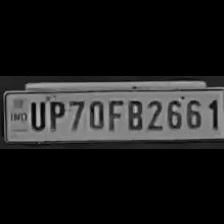0: (84, 96, 106, 128)
1: (204, 95, 222, 129)
2: (144, 96, 162, 130)
6: (184, 95, 202, 129), (164, 96, 182, 128)
7: (65, 96, 84, 130)
B: (123, 96, 143, 130)
F: (106, 96, 124, 128)
P: (46, 96, 66, 130)
U: (26, 96, 46, 130)
